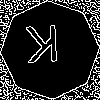K: (25, 25, 61, 73)
